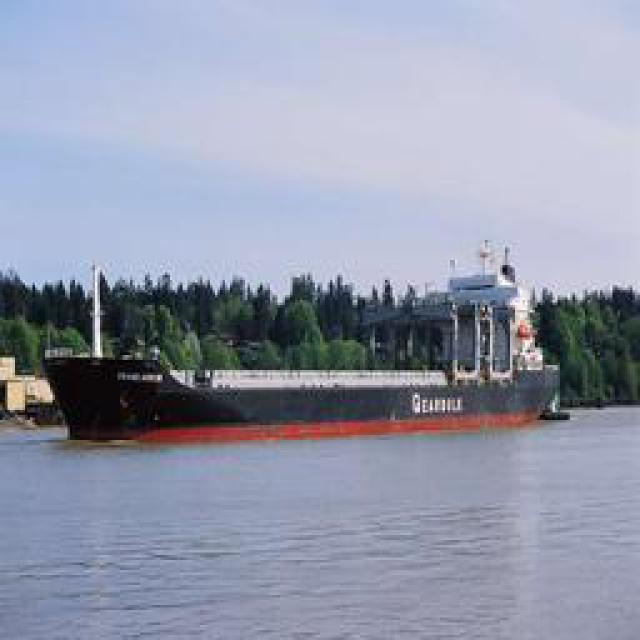Ship: (58, 324, 566, 434)
